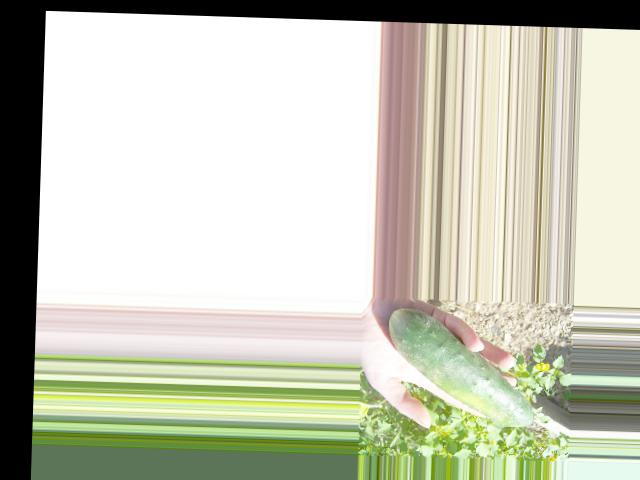cucumber: (386, 308, 538, 427)
